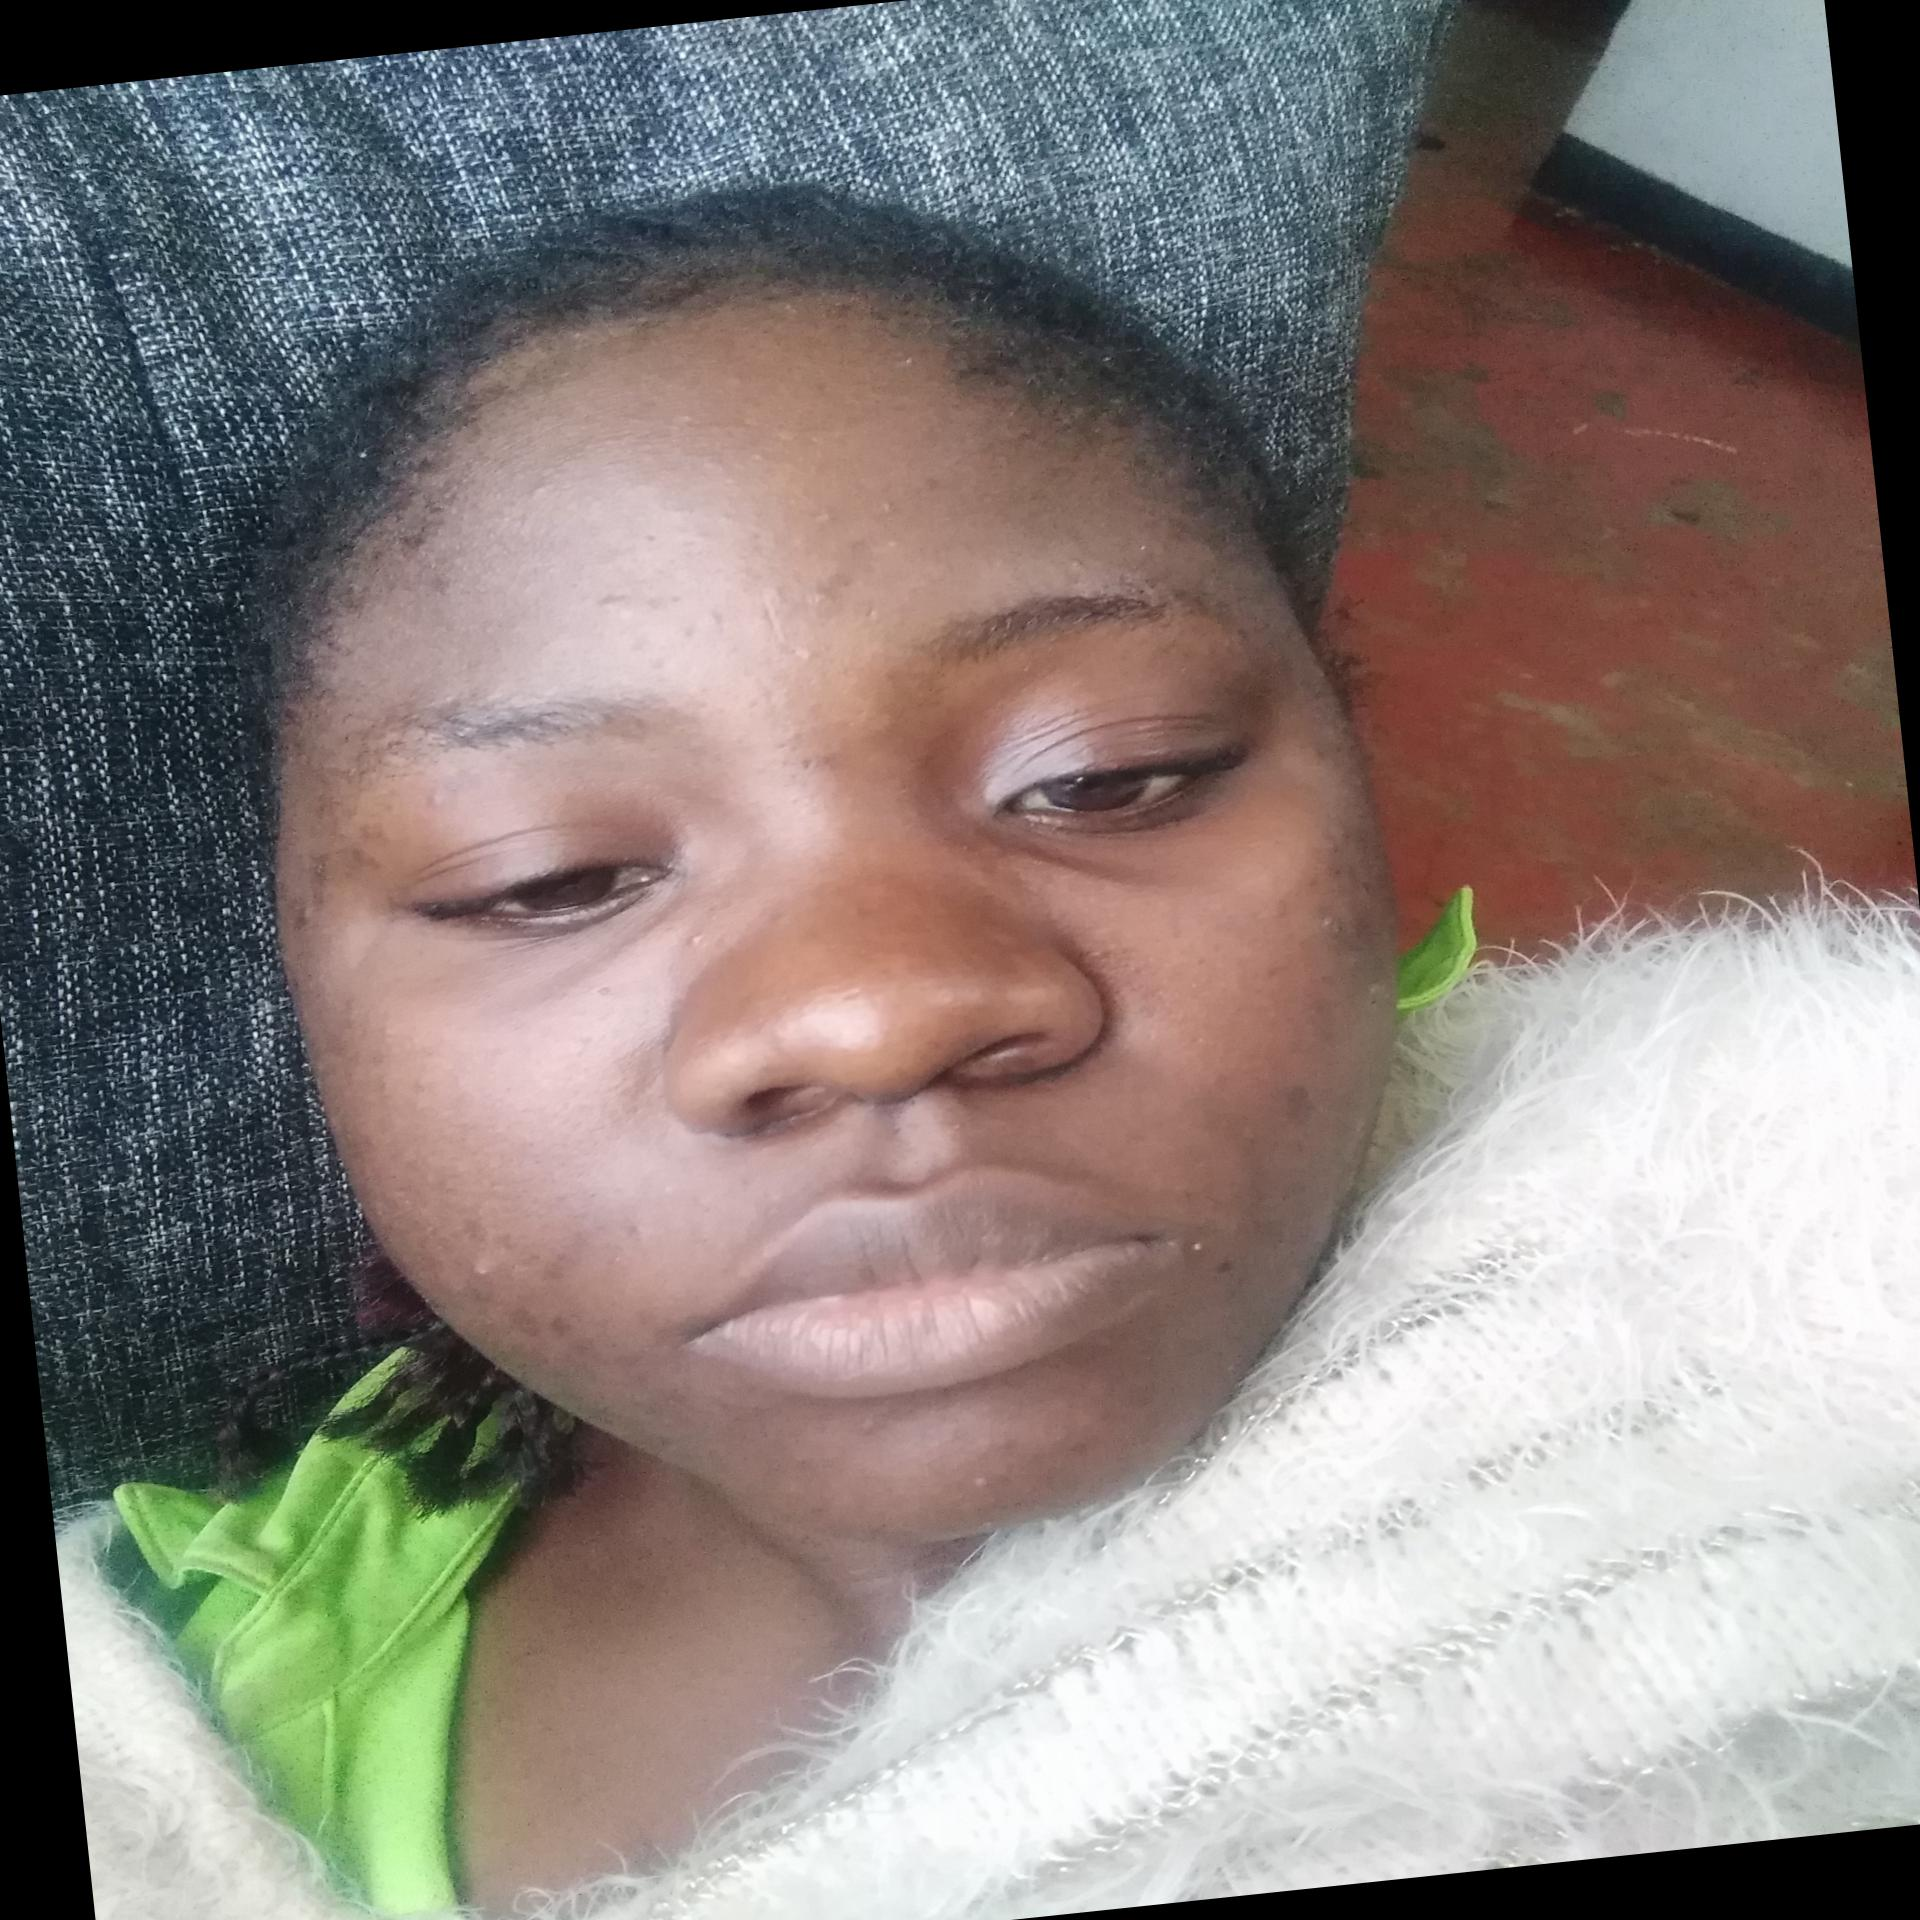Acne: (668, 603, 730, 645), (622, 631, 666, 682), (782, 508, 842, 545), (969, 1428, 1036, 1459), (304, 849, 339, 909), (1278, 1076, 1322, 1124), (519, 462, 566, 506), (577, 585, 635, 621), (501, 1298, 540, 1342), (418, 570, 461, 608), (832, 1415, 883, 1447), (795, 585, 837, 619), (1357, 967, 1391, 1007), (406, 1071, 447, 1102), (953, 1472, 995, 1502), (775, 1449, 818, 1479), (346, 818, 397, 842), (346, 842, 383, 876), (1264, 890, 1298, 925), (459, 1206, 489, 1243), (542, 1312, 575, 1342), (1064, 547, 1097, 575), (290, 897, 313, 937), (672, 928, 709, 953), (1055, 1442, 1090, 1463), (791, 642, 821, 666), (587, 983, 617, 1007), (1315, 905, 1338, 937), (619, 1220, 645, 1247), (672, 410, 702, 431), (471, 1259, 498, 1282), (425, 786, 452, 809), (881, 496, 900, 513)
